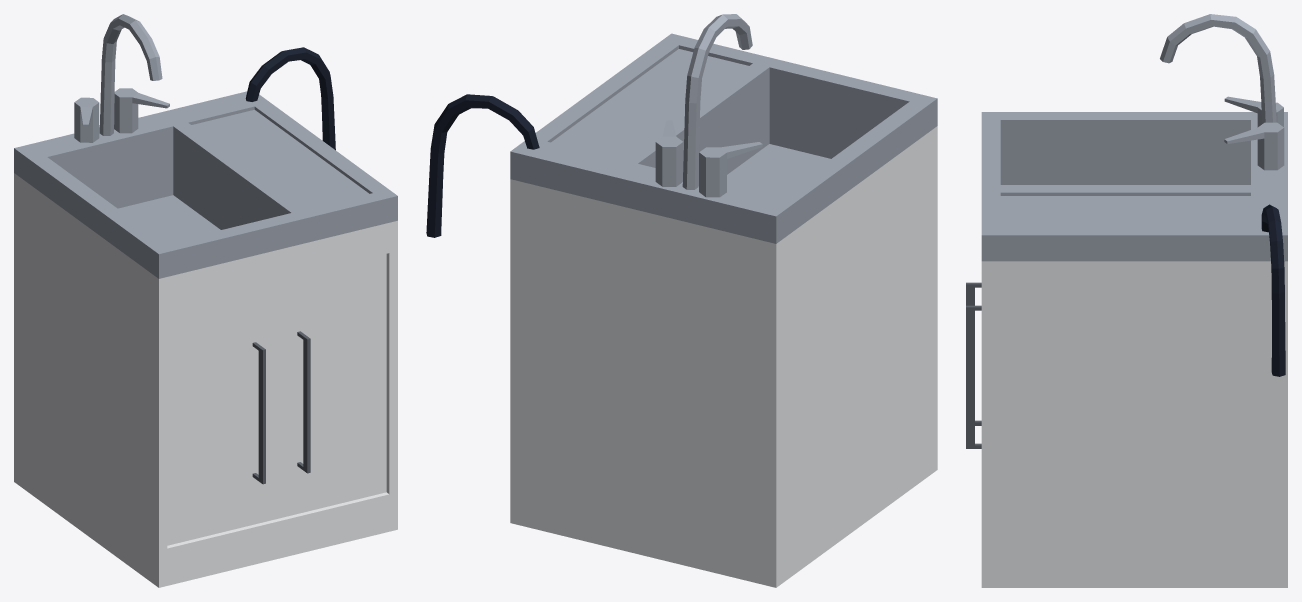
The model's file is Building_Toilet_Washing_Sink.glb.
3 views of the same model, side by side, from view 1: azimuth 30°, elevation 25°; view 2: azimuth 150°, elevation 25°; view 3: azimuth 270°, elevation 25° (orthographic). The views are drawn at different scales.
Visible parts, largest first — view 1: Building_Toilet_Washing_Sink; view 2: Building_Toilet_Washing_Sink; view 3: Building_Toilet_Washing_Sink.
Boxes of the visible parts, box(x1,y1,x2,y2) form: Building_Toilet_Washing_Sink: box(14, 14, 397, 587); Building_Toilet_Washing_Sink: box(426, 14, 937, 587); Building_Toilet_Washing_Sink: box(966, 14, 1287, 587).
Size of the model in its own units: 0.8621 by 1.21 by 0.7142.
Materials: 1 (1 with a texture image).
